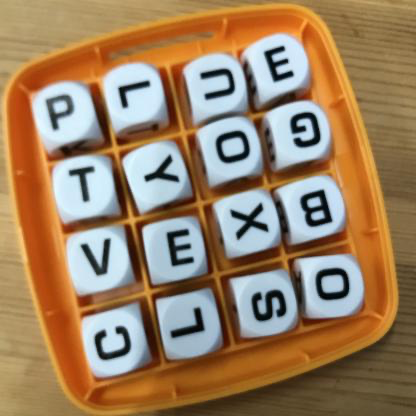b: (290, 181, 345, 231)
c: (86, 316, 145, 372)
e: (150, 223, 205, 279), (251, 36, 307, 89)
g: (270, 106, 330, 159)
l: (102, 66, 162, 122), (160, 302, 217, 353)
o: (200, 121, 262, 175), (307, 259, 365, 315)
p: (38, 88, 92, 139)
s: (240, 278, 295, 332)
t: (57, 158, 113, 211)
u: (188, 60, 246, 112)
v: (70, 235, 130, 286)
x: (222, 192, 279, 253)
y: (129, 150, 185, 198)
